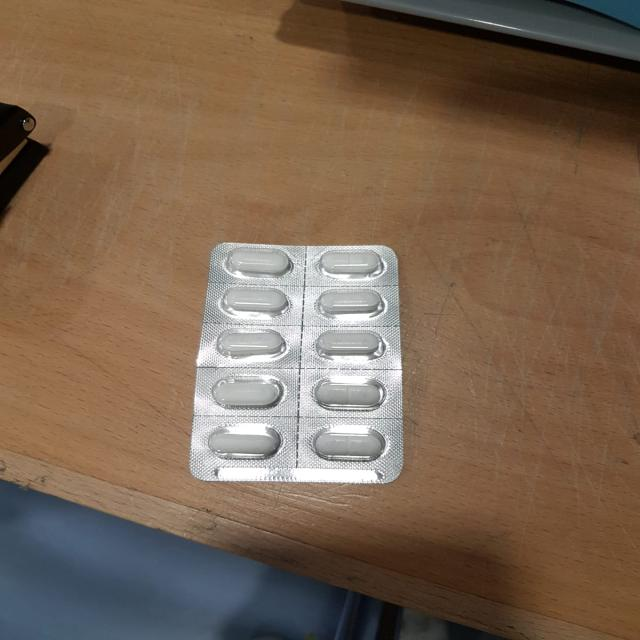Pill: (300, 424, 393, 476), (196, 420, 286, 465), (199, 324, 292, 367), (206, 371, 290, 416), (301, 374, 391, 414), (306, 284, 393, 324), (213, 283, 295, 320), (311, 244, 388, 283), (311, 325, 388, 363), (222, 245, 304, 280)
